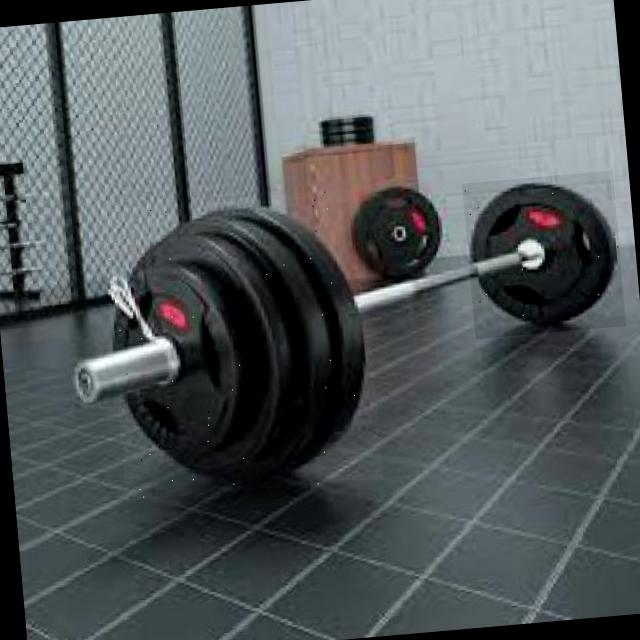barbell: (101, 188, 385, 502), (462, 171, 627, 340)
